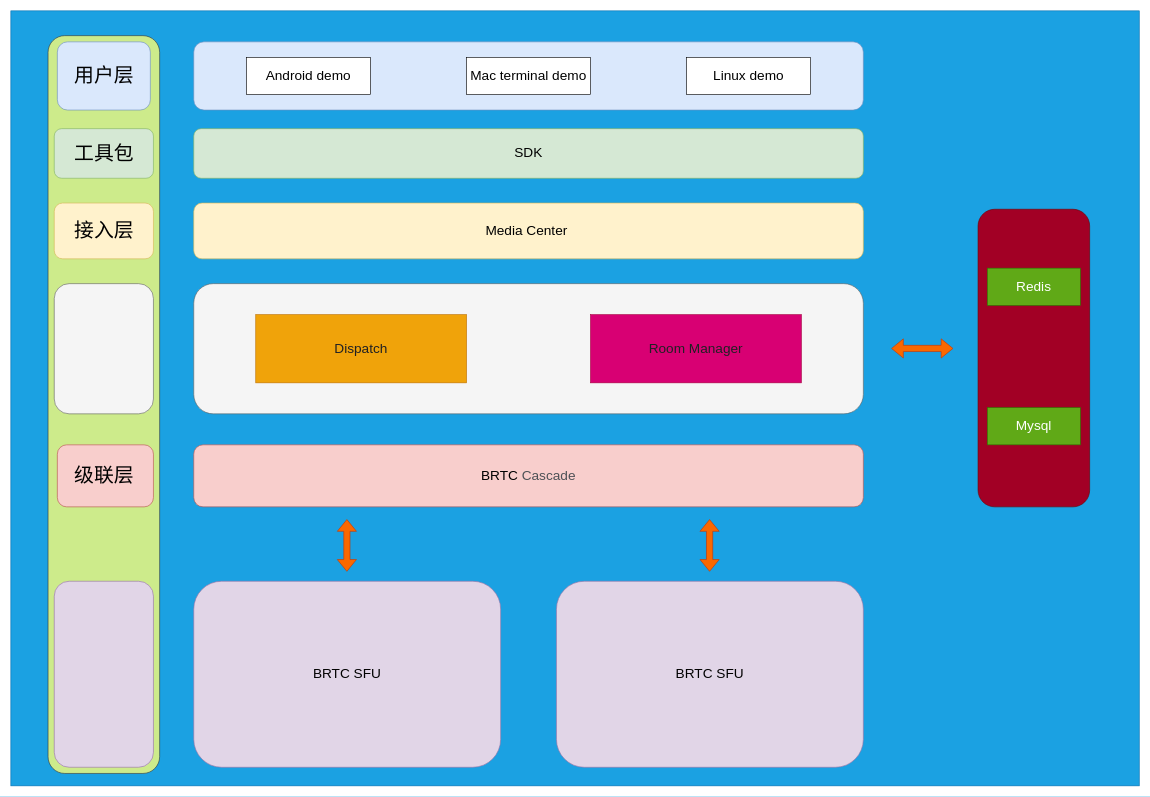
Some shapes in this 1150 by 797 pixel diagram are drawn without their labels. The centre of each missing label's shape, as x and y in pixels:
媒体层: (103,674)
调度层: (103,348)
